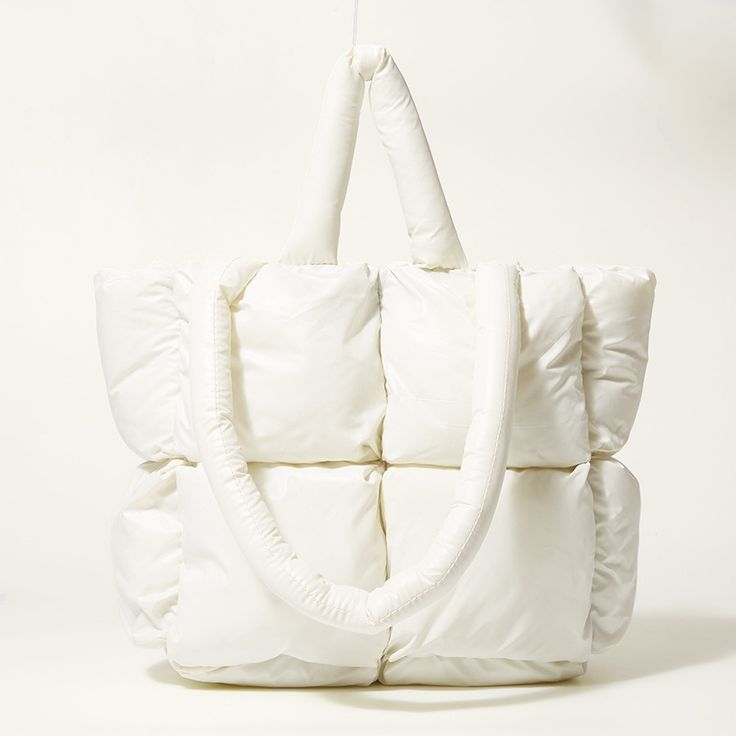nylon: (92, 43, 657, 688)
